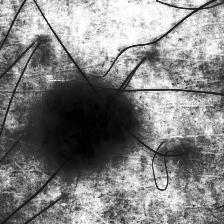Benign Marking or Mole: (40, 84, 140, 171)
